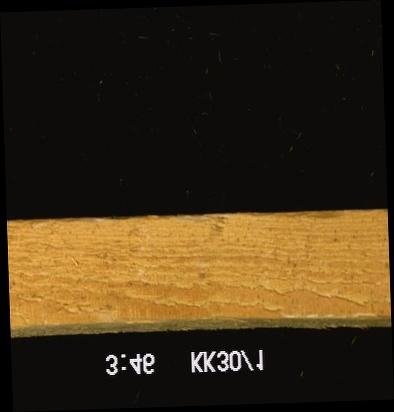wave: (242, 210, 345, 228)
